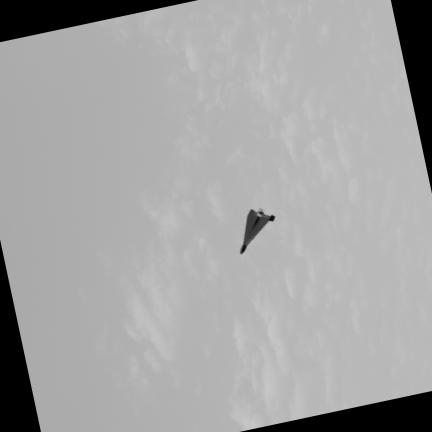Shahed: (239, 207, 276, 253)
